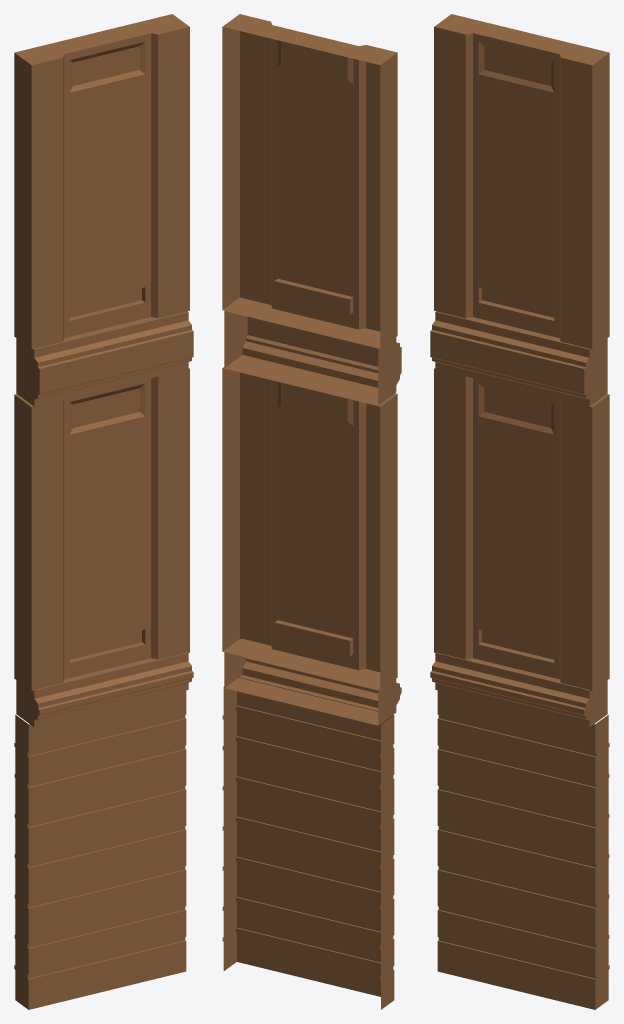
Rendered from F_Large_2_Blank.fbx.
3 renders of one model, left to right at view 1: azimuth 30°, elevation 25°; view 2: azimuth 150°, elevation 25°; view 3: azimuth 330°, elevation 25°, orthographic.
Visible parts, largest first — view 1: Box001; view 2: Box001; view 3: Box001.
Boxes of the visible parts, x1,y1,x2,y2 form: Box001: (14, 14, 193, 1009); Box001: (222, 14, 401, 1009); Box001: (430, 14, 609, 1009).
Size of the model in its own units: 3.21 by 18.34 by 0.818.
